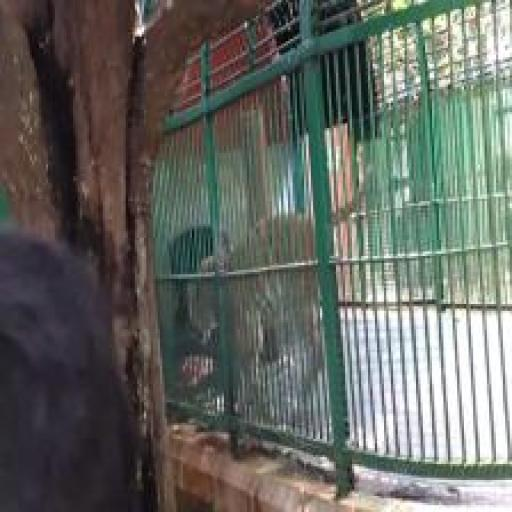Tiger: (181, 162, 386, 424)
